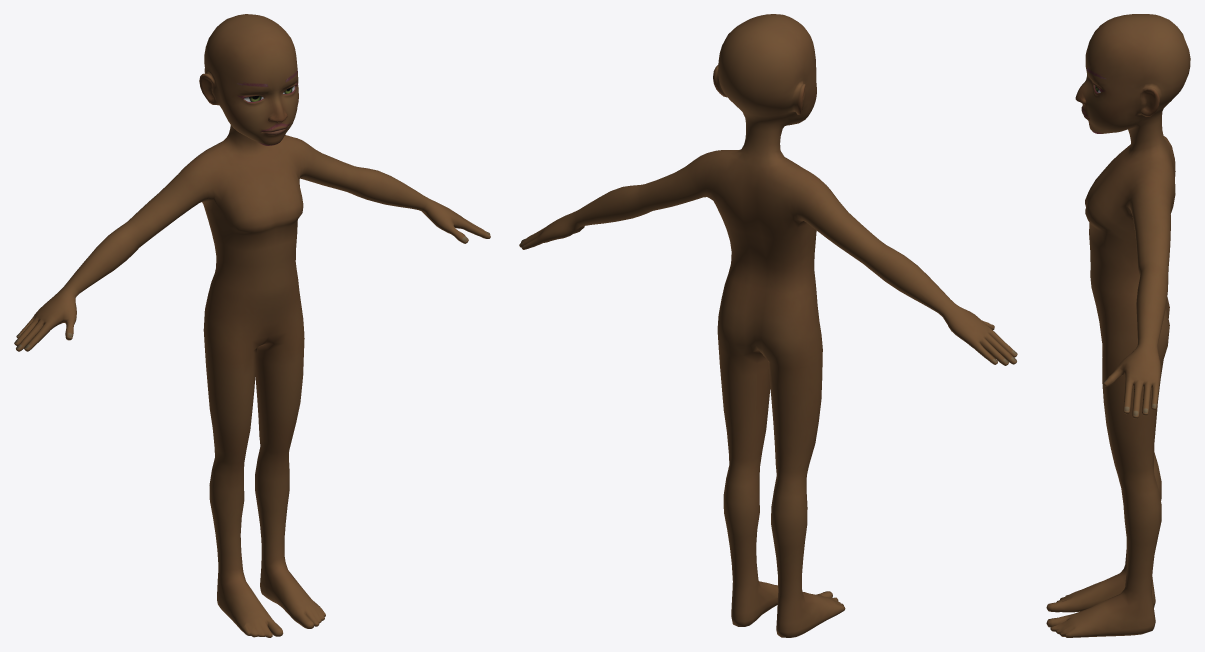
File: frame_0079.glb
3 renders of one model, left to right at view 1: azimuth 30°, elevation 25°; view 2: azimuth 150°, elevation 25°; view 3: azimuth 270°, elevation 25°, orthographic. The views are drawn at different scales.
Parts seen in each view (by area): view 1: frame_0079_head_geo; view 2: frame_0079_head_geo; view 3: frame_0079_head_geo.
Part boxes in pixels (box(x1,y1,x2,y2)): frame_0079_head_geo: box(14, 14, 490, 637); frame_0079_head_geo: box(519, 14, 1017, 637); frame_0079_head_geo: box(1046, 14, 1190, 637).
Size of the model in its own units: 1.28 by 1.5 by 0.3253.
3 materials, 3 textured.
